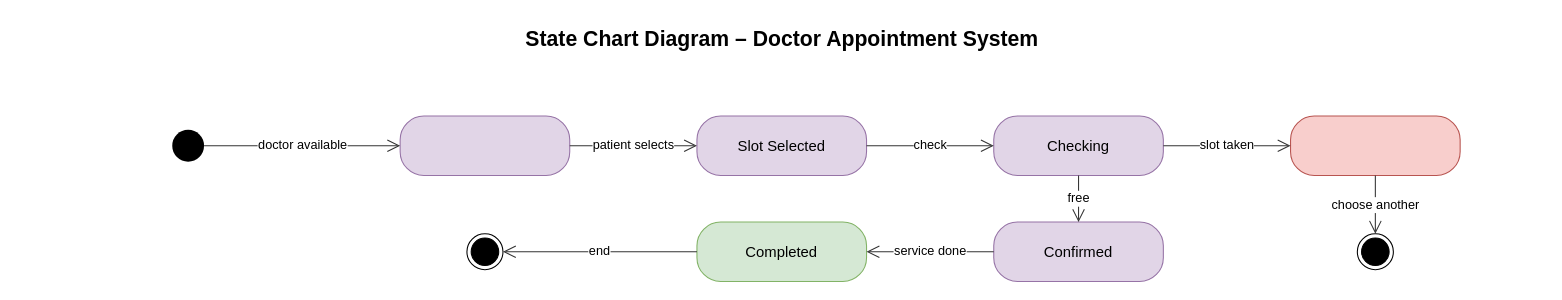
Image size: 1562x300. Some labels were removed from this diagram. Here are the shapes that lost their labels. From the top down, the centre of each, then its label:
the point at 484,145: Slot Open
the point at 1374,145: Unavailable
